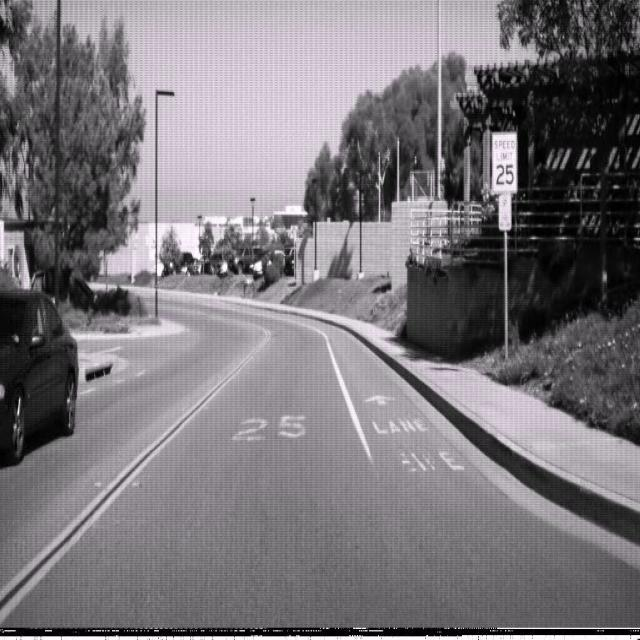speedLimit25: (490, 131, 518, 193)
